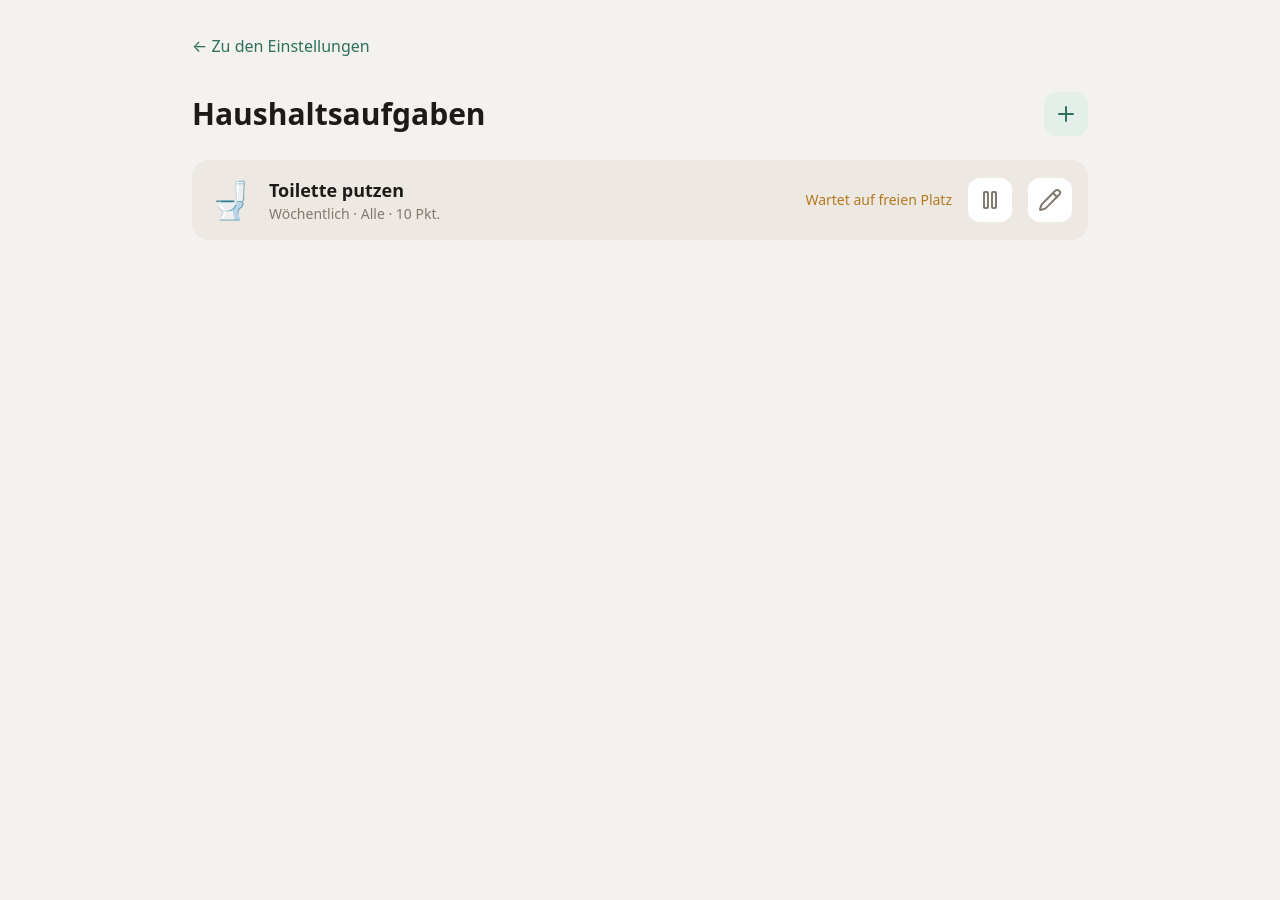
Test case: ChoreSettingsView › meldet ein fehlgeschlagenes Pausieren ueber eine Snackbar
Click the button named "Toilette putzen pausieren": (990, 200) [968,178,1012,222]
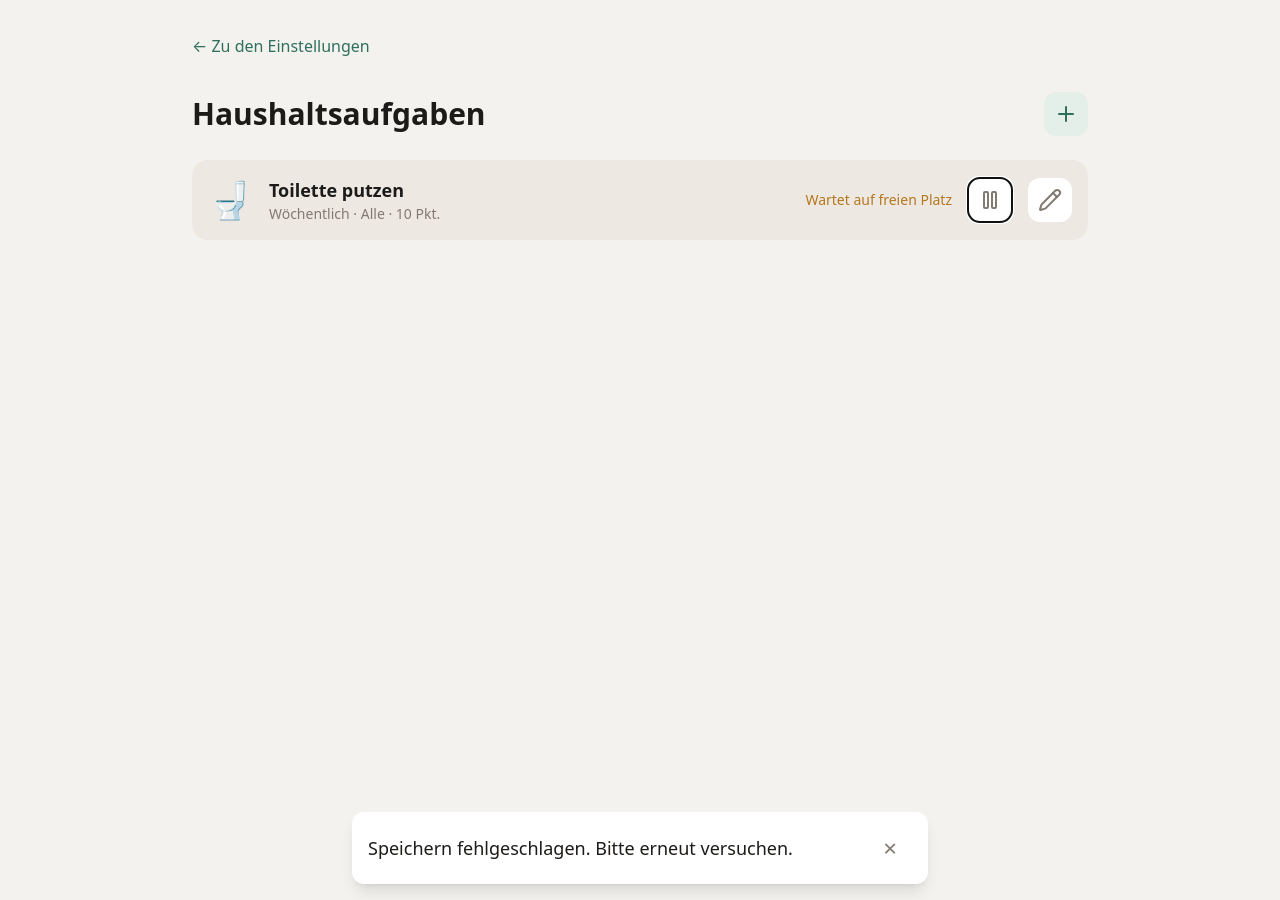
Now the message shows "Speichern fehlgeschlagen. Bitte erneut versuchen.", box [368,836,793,860]
